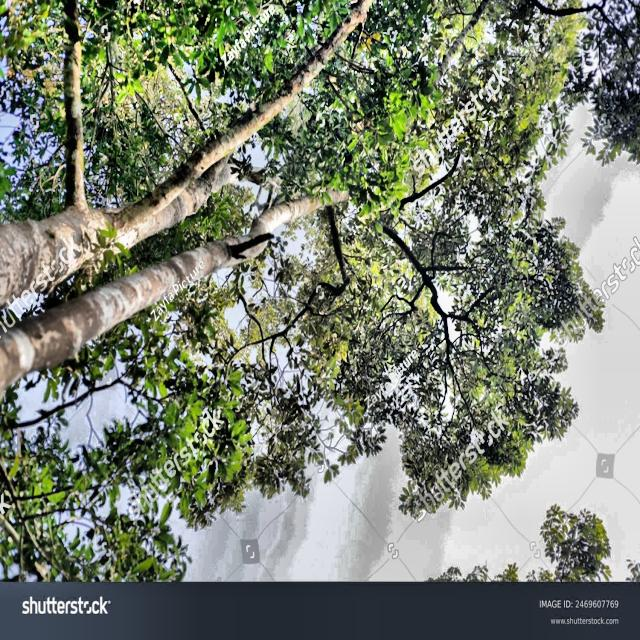arvore: (0, 132, 403, 390)
